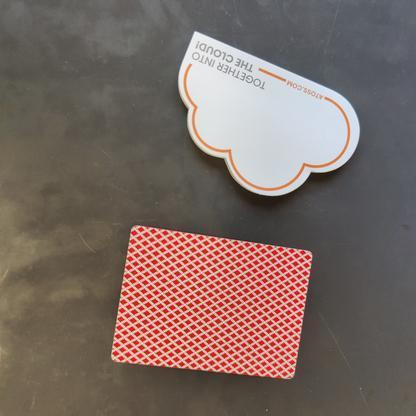card: (105, 220, 317, 389)
